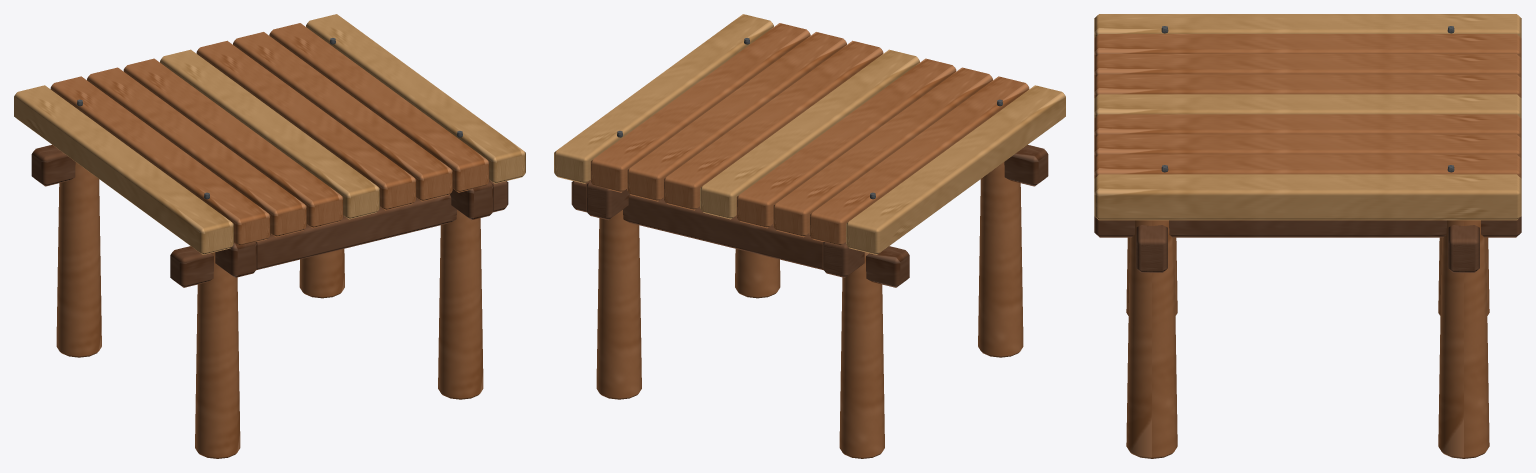
Rendered from SM_Dock_Cross.glb.
3 renders of one model, left to right at view 1: azimuth 30°, elevation 25°; view 2: azimuth 150°, elevation 25°; view 3: azimuth 270°, elevation 25°, orthographic. The views are drawn at different scales.
Visible parts, largest first — view 1: SM_Dock_Cross; view 2: SM_Dock_Cross; view 3: SM_Dock_Cross.
Part boxes in pixels (<box>): SM_Dock_Cross: <box>14,14,525,458</box>; SM_Dock_Cross: <box>554,14,1065,458</box>; SM_Dock_Cross: <box>1094,14,1521,458</box>.
Bounding box in the file's own units: 2 × 1.48 × 2.
Materials: 1 (1 with a texture image).
